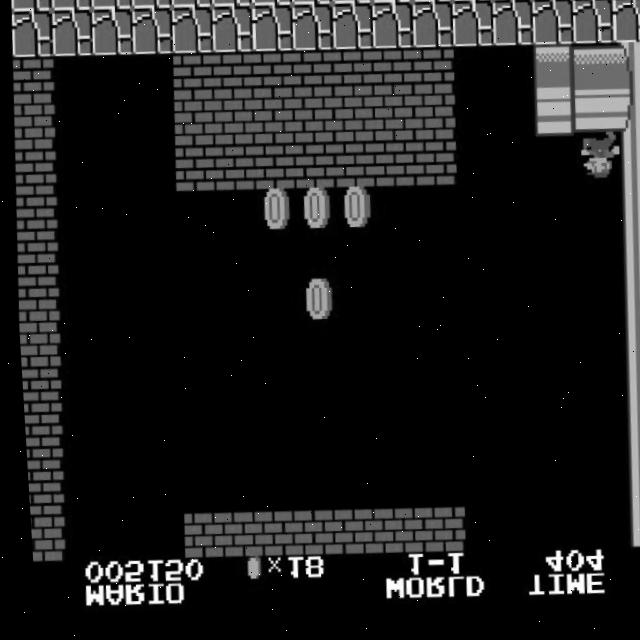1- brick_block: (169, 54, 215, 103), (330, 97, 376, 146), (370, 96, 416, 145), (410, 96, 456, 145), (175, 511, 220, 560), (170, 99, 215, 148), (215, 511, 260, 560), (210, 98, 255, 147), (210, 53, 255, 102), (255, 510, 300, 559), (250, 98, 295, 147), (250, 53, 295, 102), (295, 509, 340, 558), (290, 98, 335, 147), (290, 52, 335, 101), (335, 509, 380, 558), (330, 52, 375, 101), (375, 509, 420, 558), (370, 51, 415, 100), (415, 508, 460, 557), (410, 51, 455, 100), (171, 145, 216, 193), (211, 145, 256, 193), (251, 145, 296, 193), (291, 144, 336, 192), (331, 144, 376, 192), (371, 143, 416, 191), (411, 143, 456, 191), (12, 239, 56, 288), (12, 193, 56, 242), (10, 56, 54, 105), (13, 285, 57, 333), (11, 148, 55, 196), (10, 102, 54, 150), (15, 330, 57, 379), (18, 376, 58, 425), (20, 422, 58, 470), (22, 468, 59, 516), (24, 513, 59, 562)
11- little_mario: (571, 138, 618, 189)
14- pipe: (570, 94, 615, 143), (570, 49, 615, 98), (610, 49, 640, 98), (610, 141, 640, 189), (610, 95, 640, 143), (611, 232, 640, 281), (611, 186, 640, 235), (612, 323, 640, 372), (612, 278, 640, 326), (613, 369, 640, 418), (614, 461, 640, 509), (614, 415, 640, 463), (615, 507, 640, 556)
15- pipe_head: (531, 95, 576, 144), (530, 49, 575, 98)
17- undestructible_block: (489, 4, 535, 53), (529, 3, 575, 52), (569, 3, 615, 52), (49, 9, 94, 58), (89, 8, 134, 57), (129, 8, 174, 57), (169, 8, 214, 57), (209, 7, 254, 56), (249, 6, 294, 55), (289, 6, 334, 55), (329, 6, 374, 55), (369, 5, 414, 54), (409, 4, 454, 53), (449, 4, 494, 53), (9, 10, 53, 59), (609, 3, 640, 52), (10, 0, 52, 13), (50, 0, 93, 12), (90, 0, 133, 12), (130, 0, 173, 11), (170, 0, 213, 11), (210, 0, 253, 10), (250, 0, 293, 9), (290, 0, 333, 9), (330, 0, 373, 9), (370, 0, 413, 9), (410, 0, 453, 8), (450, 0, 493, 8), (490, 0, 533, 7), (530, 0, 573, 7), (570, 0, 613, 6), (610, 0, 640, 6)
2- coin: (251, 190, 296, 239), (292, 281, 337, 330), (291, 189, 336, 238), (331, 189, 376, 238)
